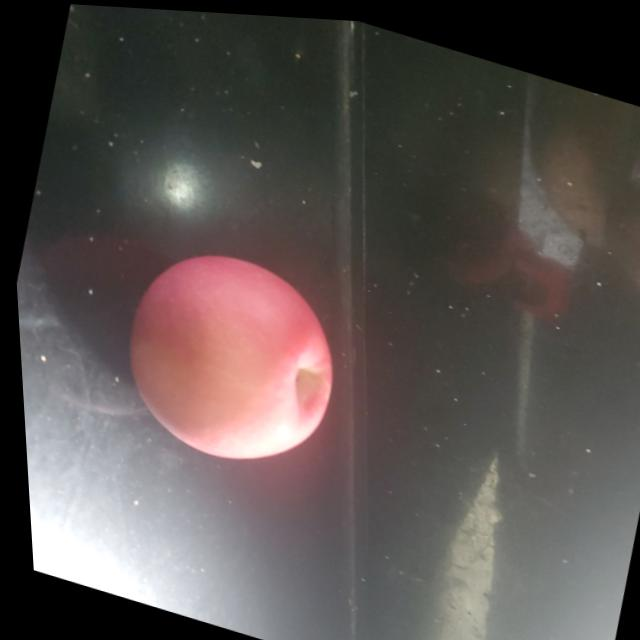apple: (100, 225, 359, 485)
